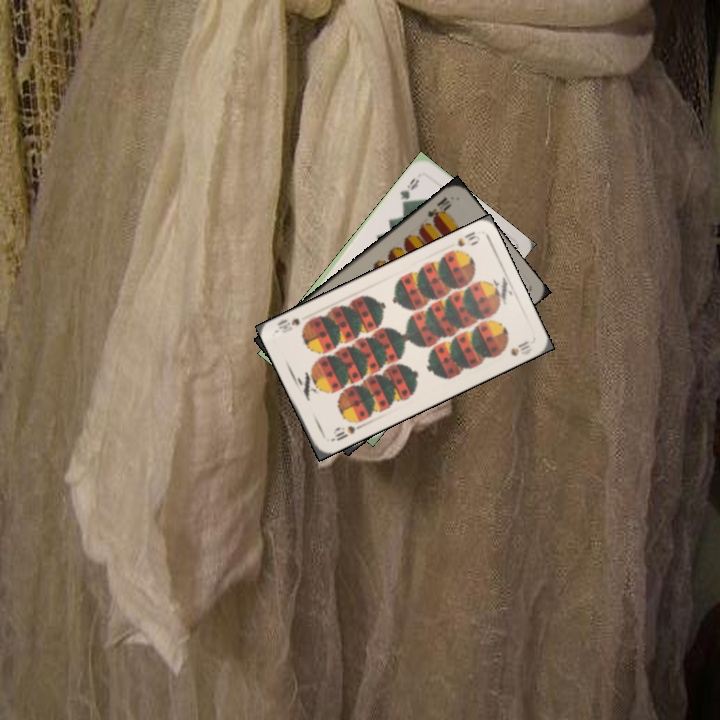E10: (423, 193, 454, 224)
G9: (396, 174, 422, 207)
S10: (445, 227, 483, 256), (326, 421, 364, 444)
